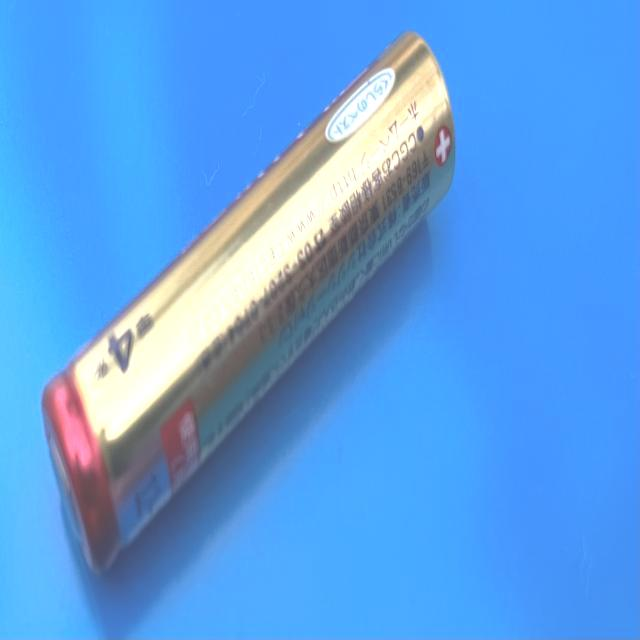AA: (41, 28, 457, 572)
